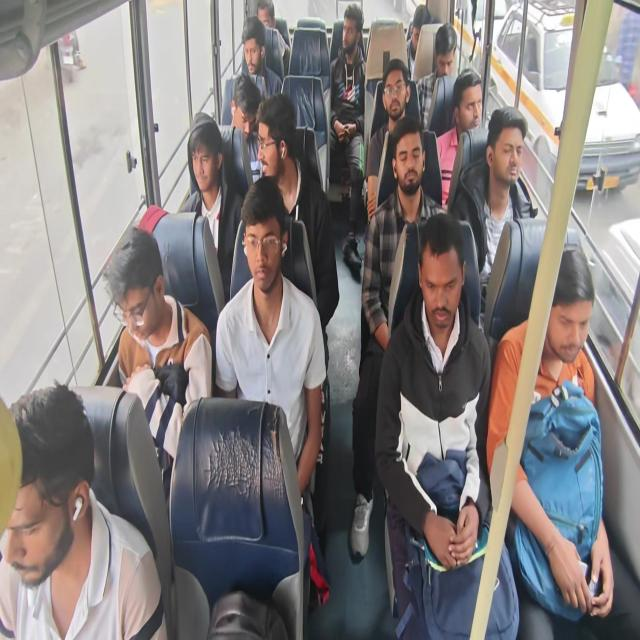person: (374, 212, 520, 638), (486, 243, 614, 636), (349, 114, 448, 560), (0, 381, 167, 638), (215, 175, 326, 502), (103, 225, 212, 498), (255, 92, 339, 372), (452, 105, 537, 327), (178, 112, 244, 302), (328, 3, 367, 280), (365, 58, 421, 222), (435, 67, 483, 208), (416, 22, 458, 130), (240, 16, 282, 102), (229, 72, 262, 174), (256, 0, 290, 78), (406, 4, 431, 80)
